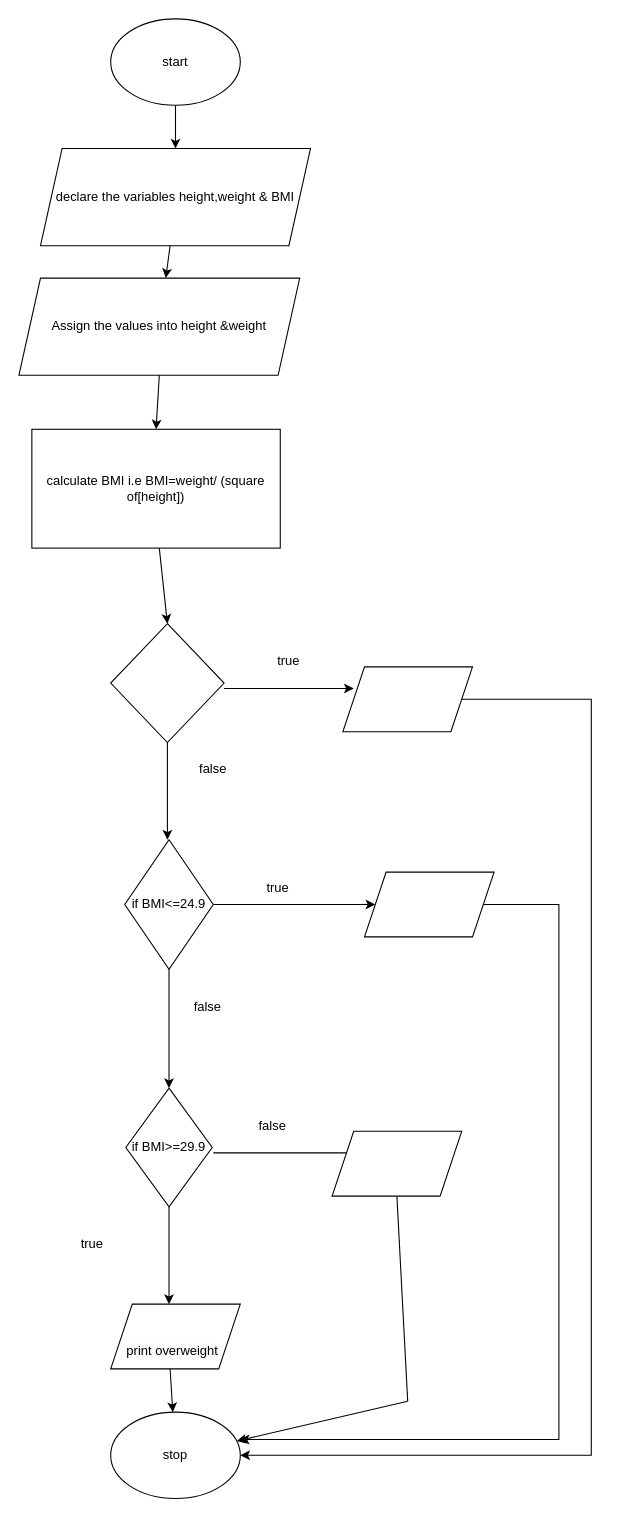
Some shapes in this 619 by 1517 pixel diagram are drawn without their labels. Here are the shapes that lost their labels. From the top down, the centre of each, then its label:
At (x=167, y=682): "if BMI <=18.5".
At (x=407, y=699): "print under weight".
At (x=428, y=904): "print normal weight".
At (x=396, y=1163): "print obese".
